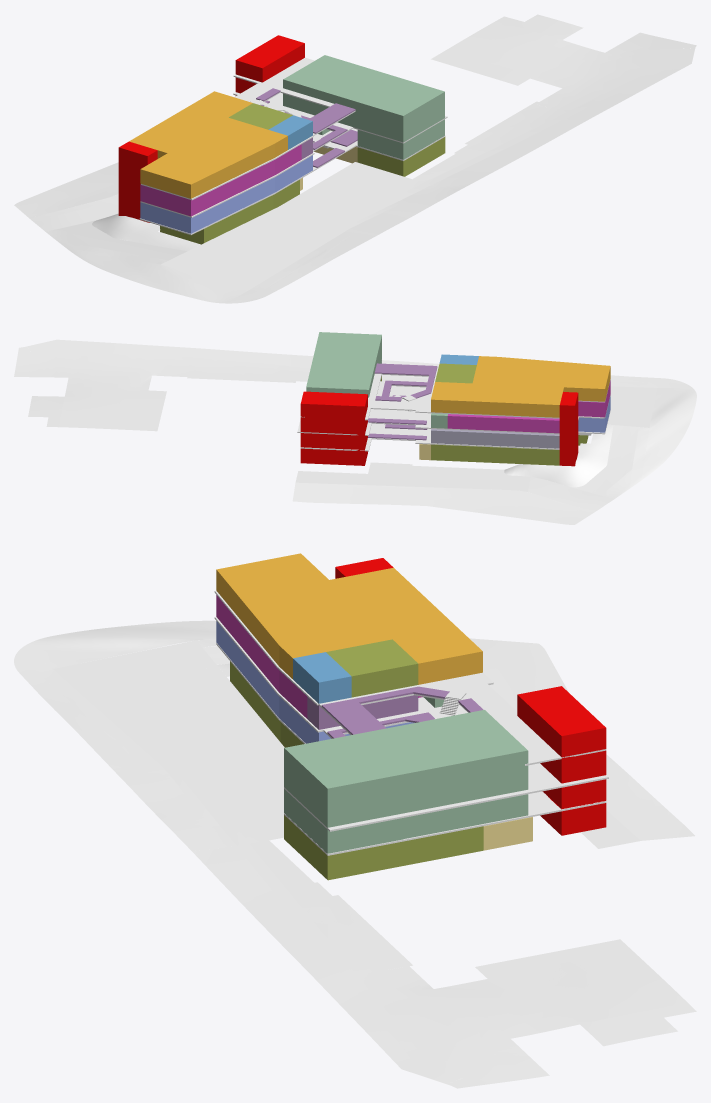
The model's file is Option2-Blocking.obj.
3 renders of one model, top to bottom at view 1: azimuth 30°, elevation 25°; view 2: azimuth 150°, elevation 25°; view 3: azimuth 270°, elevation 25°, orthographic. The views are drawn at different scales.
Visible parts, largest first — view 1: Mesh1 Group2 Group1 Model, Mesh3 Group2 Group1 Model, Mesh204 Group48 Component_518_1 Component_97_1 Group1 Model, Mesh217 Group62 Component_528_1 Component_542_1 Group1 Model, Mesh76 Group28 Component_530_1 Component_541_1 Group1 Model, Mesh210 Group56 Component_521_1 Component_542_1 Group1 Model, Mesh198 Group45 Component_97_1 Group1 Model, Mesh2 Group2 Group1 Model, Mesh69 Group18 Component_539_1 Component_538_1 Component_537_1 G, Mesh197 Component_510_1 Component_508_1 Component_187_1 Group1 M, Mesh81 Group32 Group31 Component_524_1 Component_541_1 Group1 Mo, Mesh66 Group17 Component_539_1 Component_538_1 Component_537_1 G (+6 smaller); view 2: Mesh1 Group2 Group1 Model, Mesh3 Group2 Group1 Model, Mesh204 Group48 Component_518_1 Component_97_1 Group1 Model, Mesh217 Group62 Component_528_1 Component_542_1 Group1 Model, Mesh2 Group2 Group1 Model, Mesh70 Group24 Group23 Component_539_1 Component_538_1 Component, Mesh211 Group57 Component_522_1 Component_542_1 Group1 Model, Mesh198 Group45 Component_97_1 Group1 Model, Mesh197 Component_510_1 Component_508_1 Component_187_1 Group1 M, Mesh61 Group9 Component_190_1 Group1 Model, Mesh196 Component_481_1 Component_478_1 Component_193_1 Group1 M, Mesh75 Group29 Group28 Component_530_1 Component_541_1 Group1 Mo (+13 smaller); view 3: Mesh1 Group2 Group1 Model, Mesh3 Group2 Group1 Model, Mesh217 Group62 Component_528_1 Component_542_1 Group1 Model, Mesh204 Group48 Component_518_1 Component_97_1 Group1 Model, Mesh66 Group17 Component_539_1 Component_538_1 Component_537_1 G, Mesh198 Group45 Component_97_1 Group1 Model, Mesh197 Component_510_1 Component_508_1 Component_187_1 Group1 M, Mesh206 Group53 Group52 Component_519_1 Component_97_1 Group1 Mo, Mesh61 Group9 Component_190_1 Group1 Model, Mesh81 Group32 Group31 Component_524_1 Component_541_1 Group1 Mo, Mesh76 Group28 Component_530_1 Component_541_1 Group1 Model, Mesh205 Group51 Group50 Component_519_1 Component_97_1 Group1 Mo (+9 smaller).
Part boxes in pixels (x1,y1,x2,y2): Mesh1 Group2 Group1 Model: [14, 162, 458, 303]; Mesh3 Group2 Group1 Model: [413, 14, 696, 190]; Mesh204 Group48 Component_518_1 Component_97_1 Group1 Model: [129, 91, 287, 198]; Mesh217 Group62 Component_528_1 Component_542_1 Group1 Model: [283, 55, 444, 142]; Mesh76 Group28 Component_530_1 Component_541_1 Group1 Model: [140, 155, 312, 233]; Mesh210 Group56 Component_521_1 Component_542_1 Group1 Model: [140, 144, 301, 216]; Mesh198 Group45 Component_97_1 Group1 Model: [235, 35, 304, 82]; Mesh2 Group2 Group1 Model: [92, 213, 200, 251]; Mesh69 Group18 Component_539_1 Component_538_1 Component_537_1 G: [160, 179, 299, 244]; Mesh197 Component_510_1 Component_508_1 Component_187_1 Group1 M: [141, 57, 355, 200]; Mesh81 Group32 Group31 Component_524_1 Component_541_1 Group1 Mo: [357, 119, 444, 159]; Mesh66 Group17 Component_539_1 Component_538_1 Component_537_1 G: [357, 137, 445, 176]; Mesh1 Group2 Group1 Model: [292, 360, 696, 524]; Mesh3 Group2 Group1 Model: [14, 339, 387, 431]; Mesh204 Group48 Component_518_1 Component_97_1 Group1 Model: [431, 356, 610, 417]; Mesh217 Group62 Component_528_1 Component_542_1 Group1 Model: [306, 332, 381, 397]; Mesh2 Group2 Group1 Model: [504, 424, 613, 487]; Mesh70 Group24 Group23 Component_539_1 Component_538_1 Component: [431, 444, 559, 465]; Mesh211 Group57 Component_522_1 Component_542_1 Group1 Model: [447, 414, 559, 433]; Mesh198 Group45 Component_97_1 Group1 Model: [300, 391, 367, 419]; Mesh197 Component_510_1 Component_508_1 Component_187_1 Group1 M: [300, 367, 610, 420]; Mesh61 Group9 Component_190_1 Group1 Model: [297, 359, 610, 435]; Mesh196 Component_481_1 Component_478_1 Component_193_1 Group1 M: [300, 375, 610, 451]; Mesh75 Group29 Group28 Component_530_1 Component_541_1 Group1 Mo: [431, 429, 505, 446]; Mesh1 Group2 Group1 Model: [14, 620, 694, 850]; Mesh3 Group2 Group1 Model: [192, 840, 696, 1088]; Mesh217 Group62 Component_528_1 Component_542_1 Group1 Model: [284, 710, 528, 827]; Mesh204 Group48 Component_518_1 Component_97_1 Group1 Model: [216, 553, 482, 684]; Mesh66 Group17 Component_539_1 Component_538_1 Component_537_1 G: [284, 815, 483, 880]; Mesh198 Group45 Component_97_1 Group1 Model: [517, 686, 606, 757]; Mesh197 Component_510_1 Component_508_1 Component_187_1 Group1 M: [214, 590, 606, 765]; Mesh206 Group53 Group52 Component_519_1 Component_97_1 Group1 Mo: [326, 639, 418, 697]; Mesh61 Group9 Component_190_1 Group1 Model: [214, 617, 608, 831]; Mesh81 Group32 Group31 Component_524_1 Component_541_1 Group1 Mo: [284, 789, 403, 853]; Mesh76 Group28 Component_530_1 Component_541_1 Group1 Model: [216, 621, 414, 743]; Mesh205 Group51 Group50 Component_519_1 Component_97_1 Group1 Mo: [293, 652, 351, 703].
Bounding box in the file's own units: 7622 × 910 × 4548.
